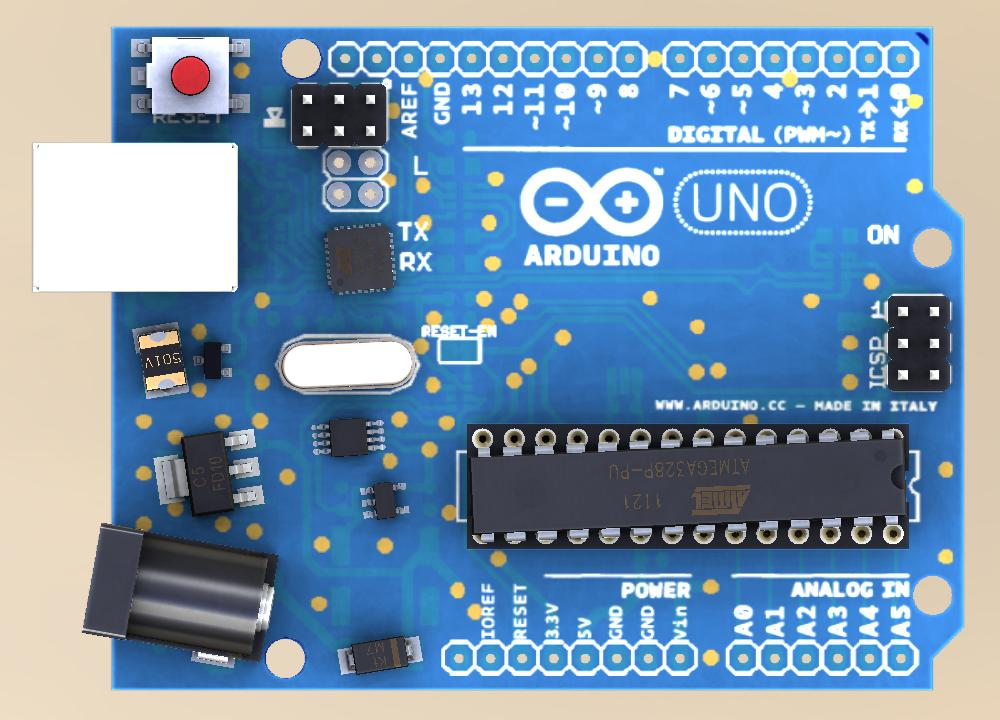ATMEL328P: (466, 423, 911, 553)
ATMega16u2: (320, 220, 401, 299)
Crystal: (277, 331, 423, 398)
Fuse: (130, 320, 191, 403)
LMV358: (360, 477, 413, 526)
M7 diode: (335, 634, 426, 680)
Missing: (331, 36, 646, 82), (664, 40, 923, 80), (440, 639, 701, 677), (300, 539, 387, 631), (727, 639, 922, 680), (386, 539, 469, 626), (246, 209, 290, 258), (833, 310, 870, 368), (817, 246, 858, 296), (440, 373, 480, 418), (440, 177, 479, 222), (263, 84, 290, 145), (326, 477, 357, 526), (604, 366, 647, 394), (817, 221, 862, 243), (420, 477, 440, 522), (247, 309, 280, 327)
PIN Header: (889, 294, 952, 392), (293, 84, 390, 147)
Power: (79, 519, 275, 664)
Regulator: (129, 411, 274, 526)
Reset: (130, 33, 253, 120)
SSOT3: (191, 341, 235, 384)
USB: (30, 141, 245, 297)
lp2985: (307, 414, 389, 462)
